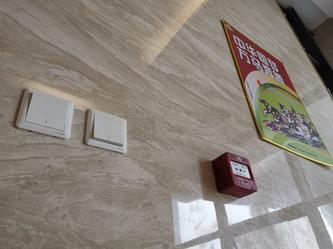switch: (25, 88, 74, 138), (89, 110, 128, 147)
